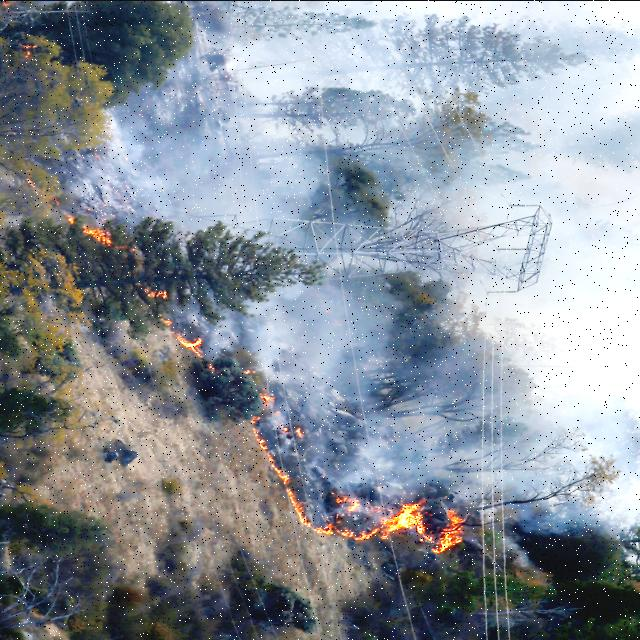api: (304, 489, 474, 563), (249, 413, 314, 527), (63, 213, 133, 251), (174, 332, 211, 364), (145, 285, 173, 305), (262, 394, 282, 408)
asap: (240, 1, 640, 446), (70, 77, 367, 393), (328, 360, 640, 570)
